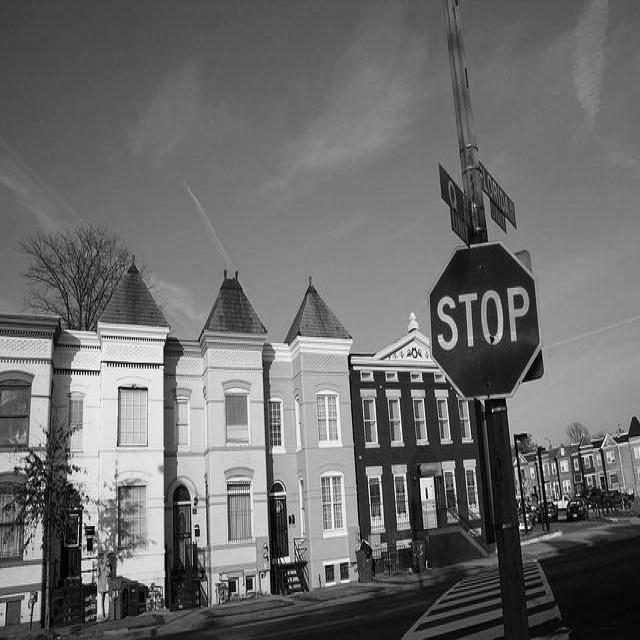vehicle: (565, 499, 589, 523), (602, 488, 632, 506), (538, 501, 558, 524), (517, 505, 537, 525), (518, 516, 534, 533), (553, 493, 570, 509), (583, 489, 601, 502), (518, 501, 537, 513)
